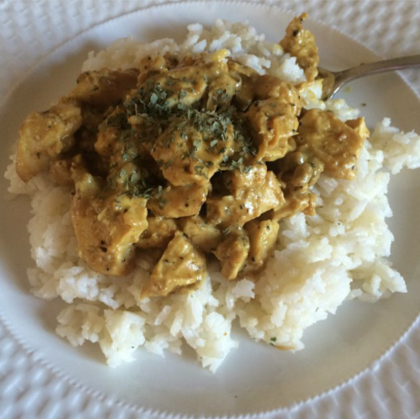plain rice: (30, 255, 390, 374), (273, 137, 413, 356), (82, 19, 315, 74), (7, 165, 77, 284)
